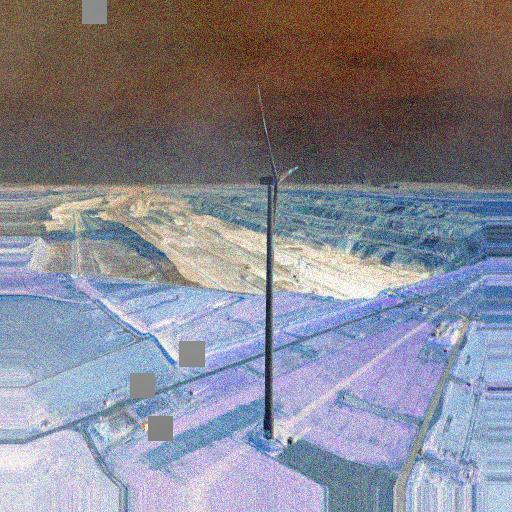wind turbine: (255, 82, 299, 449)
